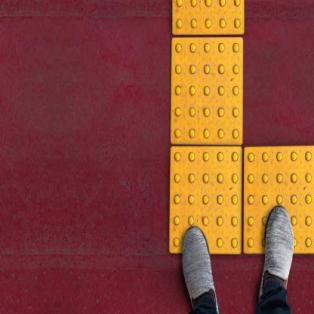Podoctatil: (169, 2, 244, 250)
